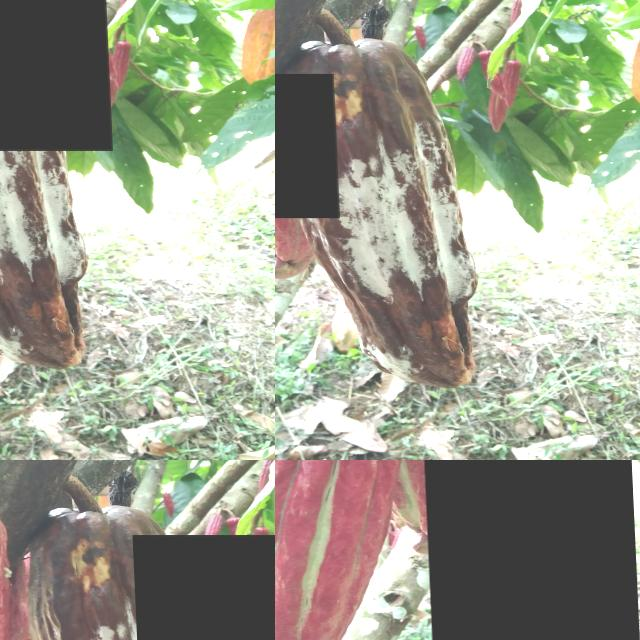Monilia: (416, 460, 635, 640), (130, 535, 275, 640)
Sana: (275, 460, 402, 640), (0, 0, 109, 150), (275, 74, 336, 218), (356, 205, 381, 253)
